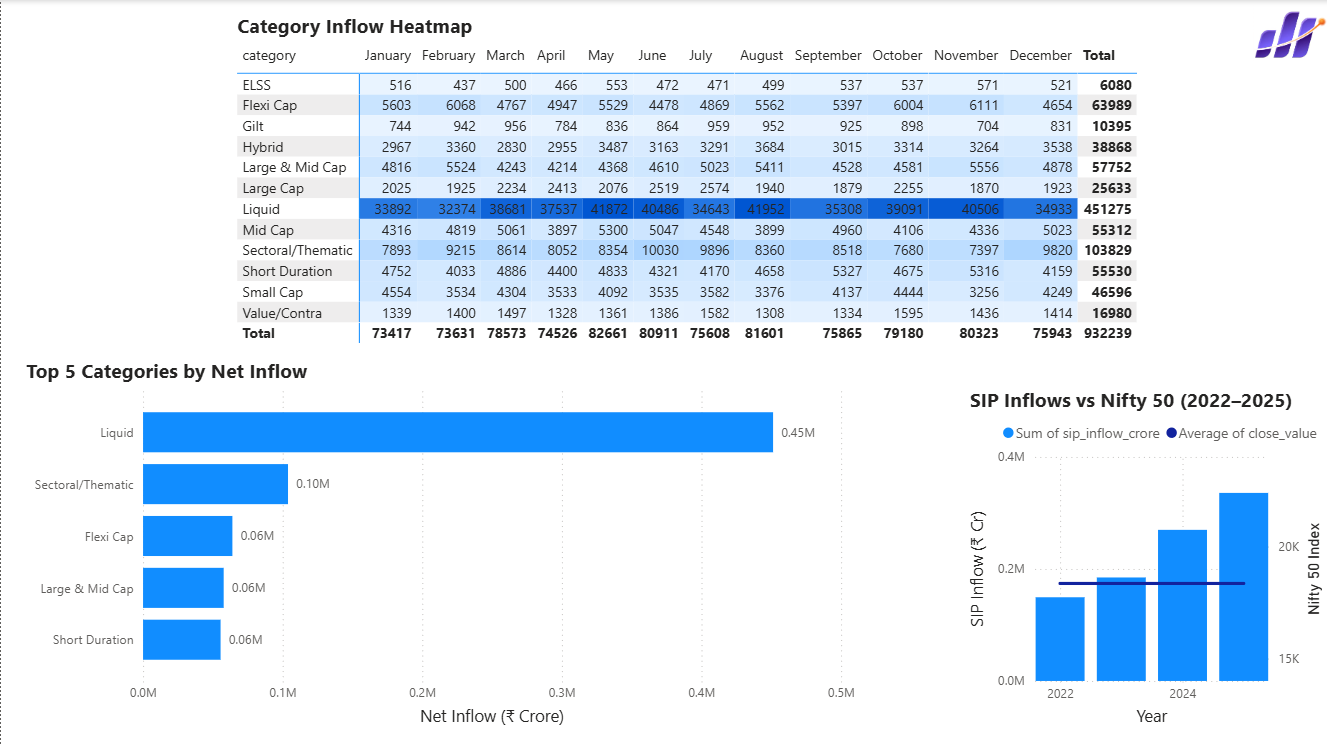

This screenshot's page, from the dashboard's own definition file:
{"tool":"powerbi","page":{"name":"SIP & Market Trends","canvas":[1280,720],"ordinal":3},"visuals":[{"type":"lineClusteredColumnComboChart","title":"SIP Inflows vs Nifty 50 (2022–2025)","fields":{"Category":["SIP.month.Variation.Date Hierarchy.Year"],"Y":["Sum(SIP.sip_inflow_crore)"],"Y2":["Avg(Benchmark.close_value)"]},"box":[930.2,372.8,349.9,333],"z":0},{"type":"pivotTable","title":"Category Inflow Heatmap","fields":{"Rows":["Category Inflows.category"],"Values":["Sum(Category Inflows.net_inflow_crore)"],"Columns":["Category Inflows.month.Variation.Date Hierarchy.Month"]},"box":[398.1,12.1,881.9,333],"z":1000},{"type":"clusteredBarChart","title":"Top 5 Categories by Net Inflow","fields":{"Category":["Category Inflows.category"],"Y":["Sum(Category Inflows.net_inflow_crore)"]},"box":[19.3,345,810.7,360.7],"z":2000},{"type":"image","box":[0,0,71.2,62.7],"z":3000},{"type":"slicer","title":"Category","fields":{"Values":["Category Inflows.category"]},"box":[9.7,89.3,378.8,103.8],"z":3001},{"type":"slicer","title":"Year","fields":{"Values":["Category Inflows.month.Variation.Date Hierarchy.Year"]},"box":[9.7,209.9,378.8,96.5],"z":3002}]}

Visuals, with their boxes in screenshot pixels (x1, y1, x2, y2), scaled from the page's 1280x720 canvas onto the 1327x746 screenshot:
"SIP Inflows vs Nifty 50 (2022–2025)" lineClusteredColumnComboChart: {"x1": 964, "y1": 386, "x2": 1326, "y2": 731}
"Category Inflow Heatmap" pivotTable: {"x1": 413, "y1": 13, "x2": 1326, "y2": 358}
"Top 5 Categories by Net Inflow" clusteredBarChart: {"x1": 20, "y1": 357, "x2": 860, "y2": 731}
image: {"x1": 0, "y1": 0, "x2": 74, "y2": 65}
"Category" slicer: {"x1": 10, "y1": 93, "x2": 403, "y2": 200}
"Year" slicer: {"x1": 10, "y1": 217, "x2": 403, "y2": 317}
